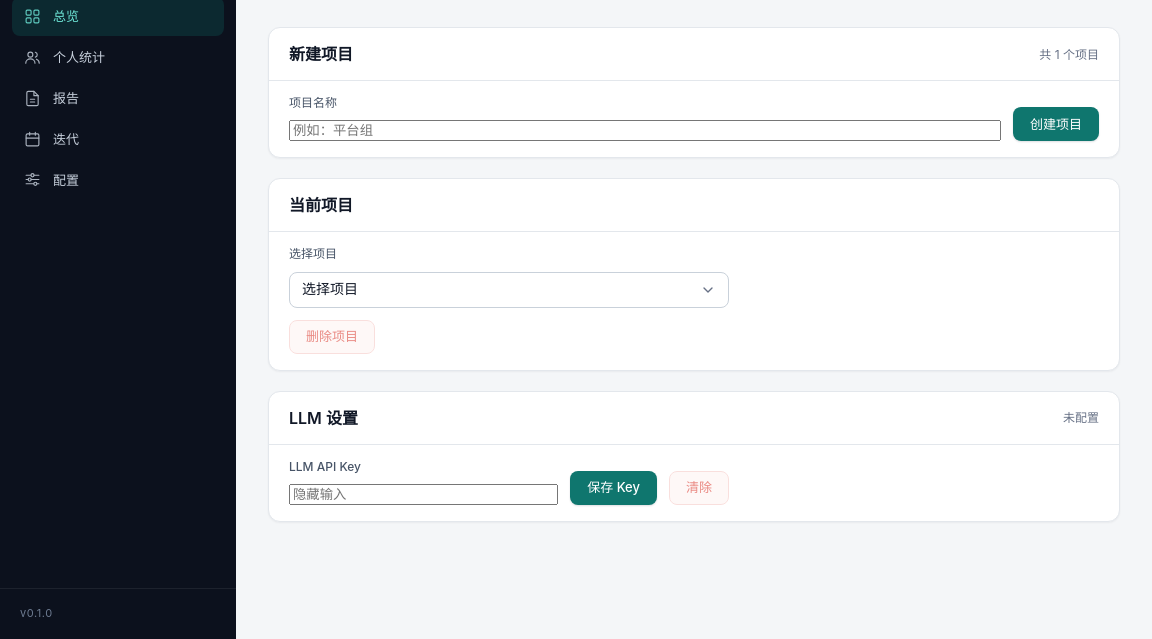
Scenario: ConfigPage sync › shows the backend error message in red when sync fails
Step 1. Select "平台组" in the dropdown named "select-project" → (509, 290), box top-left (289, 272), bottom-right (729, 308)
(page scrolled)
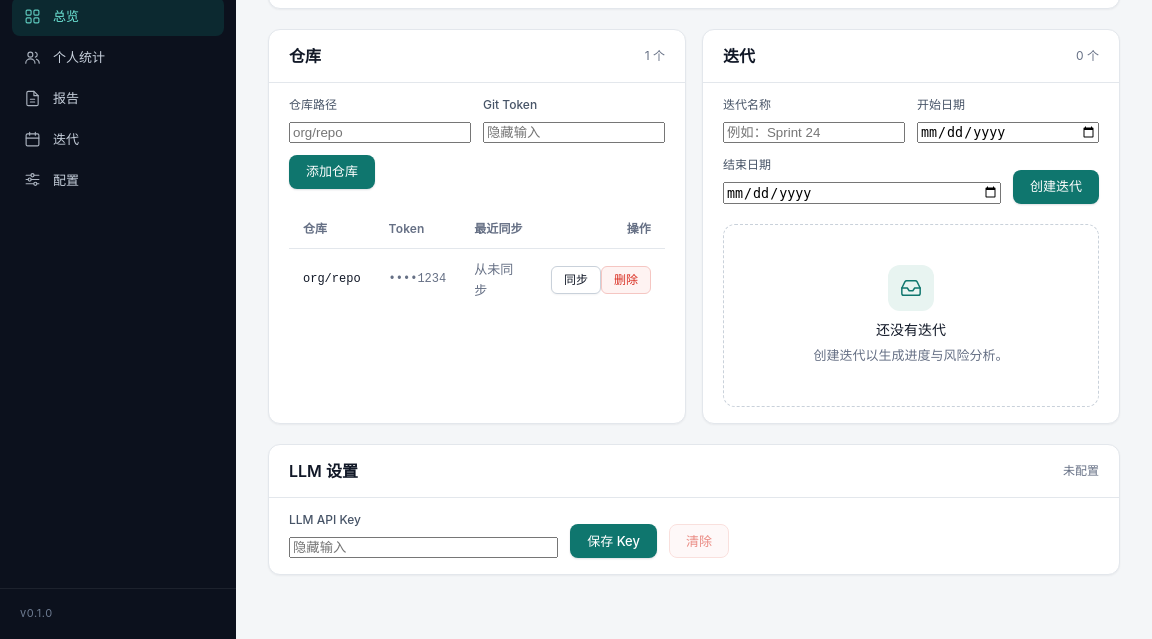
Now the text "org/repo" is shown, box top-left (289, 248), bottom-right (375, 311)
Step 2. Click the button "同步" → (576, 280), box top-left (551, 266), bottom-right (601, 294)
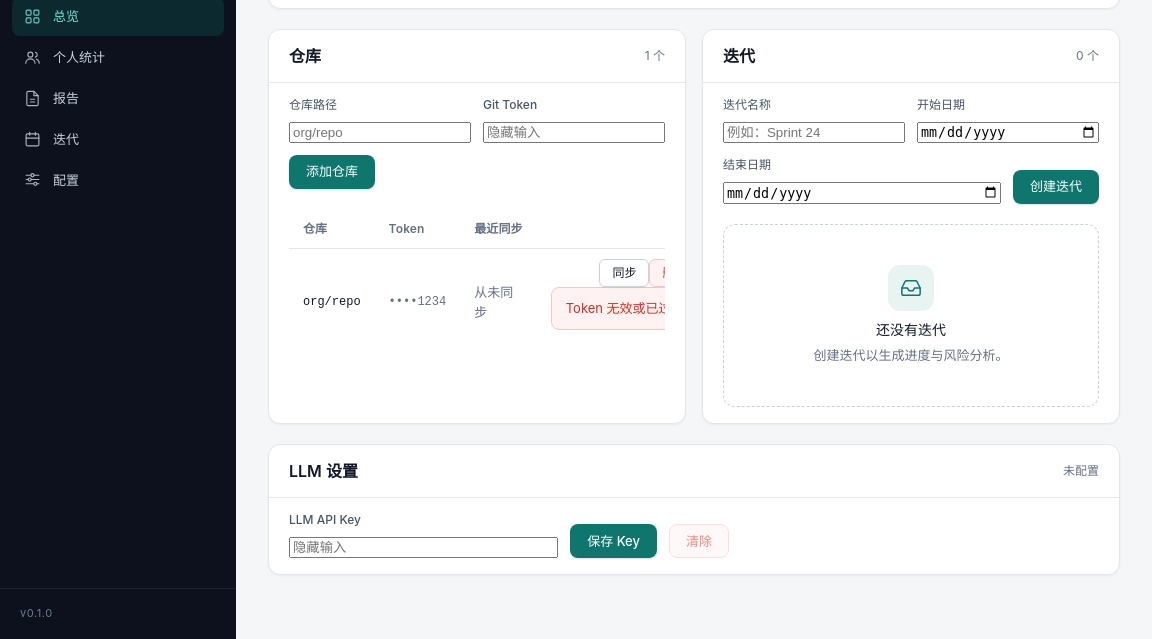
Now the text "Token 无效或已过期" is shown, box top-left (551, 287), bottom-right (665, 330)
